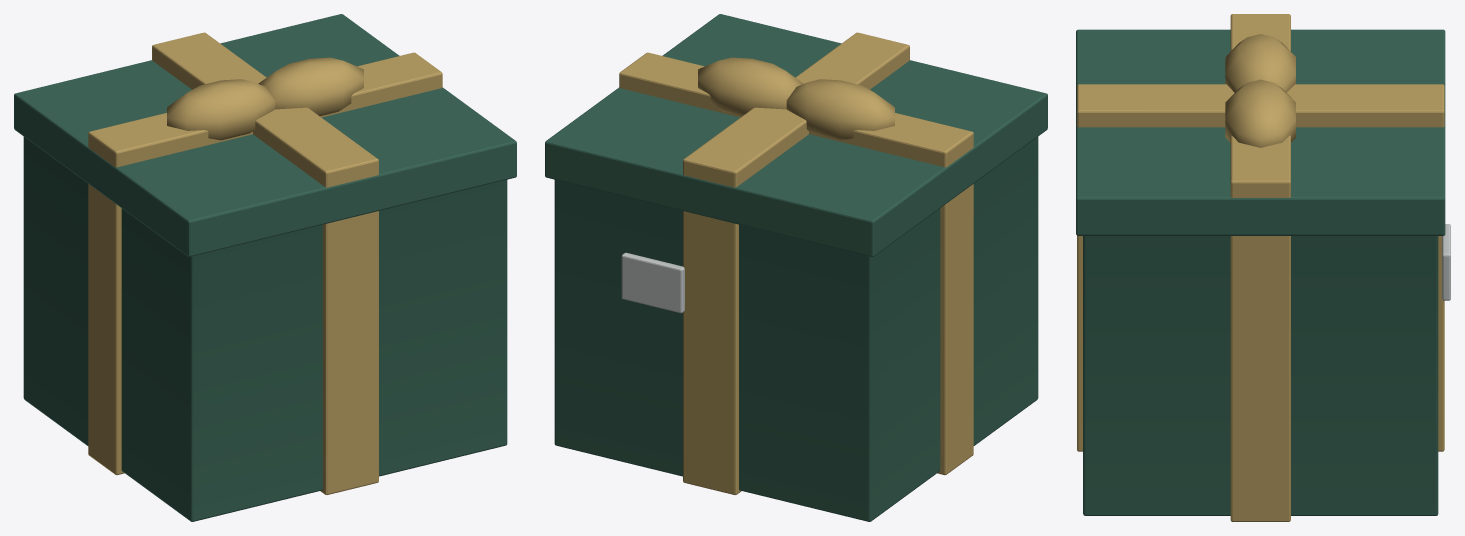
The model's file is gift_box_green.glb.
3 renders of one model, left to right at view 1: azimuth 30°, elevation 25°; view 2: azimuth 150°, elevation 25°; view 3: azimuth 270°, elevation 25°, orthographic. The views are drawn at different scales.
Bounding box in the file's own units: 0.5408 × 0.552 × 0.5066.
